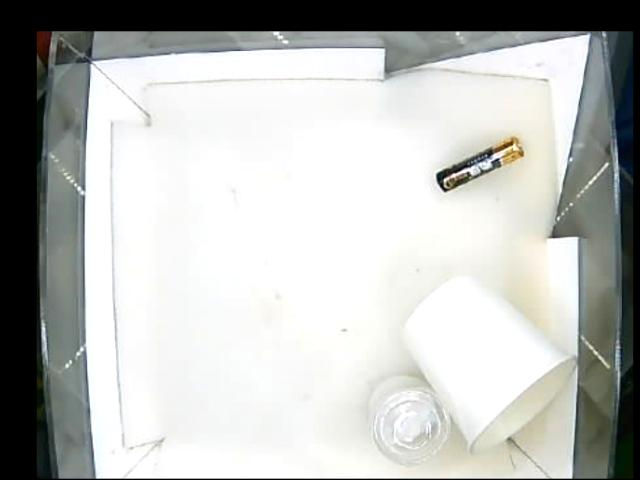Battery: (434, 139, 523, 189)
Bottle: (367, 370, 451, 460)
Cup: (404, 273, 572, 454)
